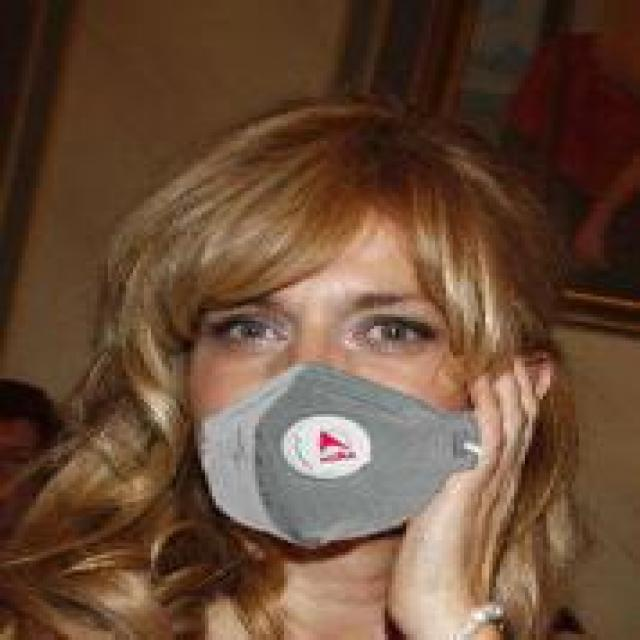mask: (86, 82, 561, 570)
